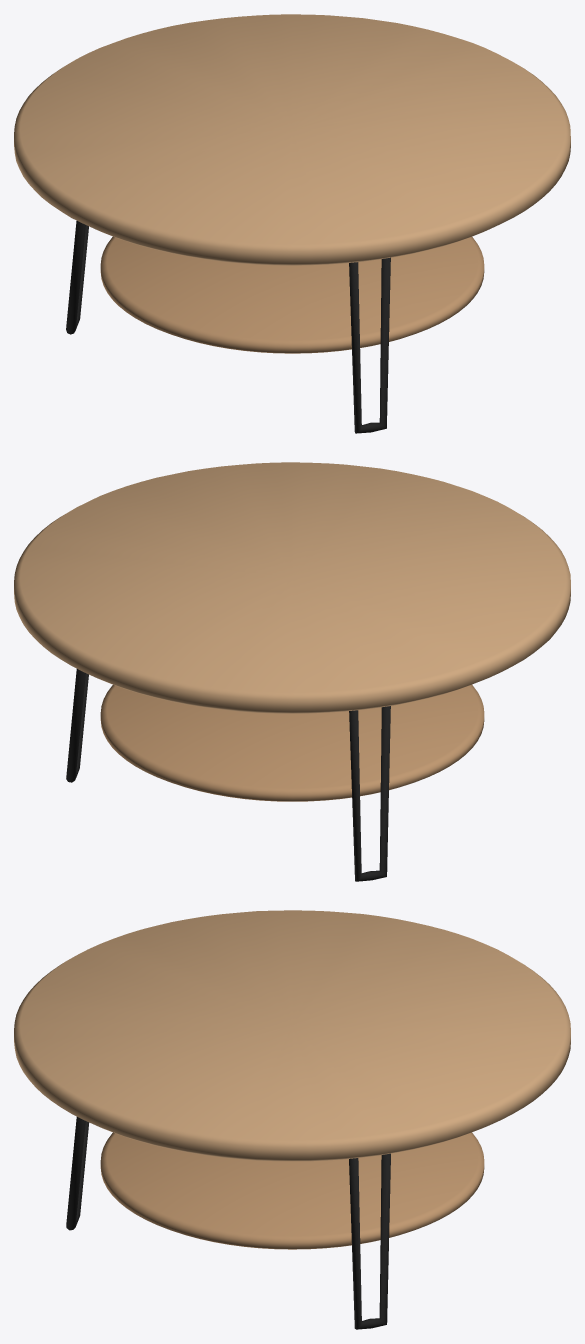
Rendered from living-coffeetable.glb.
3 views of the same model, one above another, from view 1: azimuth 30°, elevation 25°; view 2: azimuth 150°, elevation 25°; view 3: azimuth 270°, elevation 25° (orthographic).
Parts seen in each view (by area): view 1: CoffeeTable__Top, CoffeeTable__Shelf, CoffeeTable__HairpinLegs; view 2: CoffeeTable__Top, CoffeeTable__Shelf, CoffeeTable__HairpinLegs; view 3: CoffeeTable__Top, CoffeeTable__Shelf, CoffeeTable__HairpinLegs.
Part boxes in pixels (x1,y1,x2,y2): CoffeeTable__Top: (14, 14, 570, 265); CoffeeTable__Shelf: (100, 236, 484, 353); CoffeeTable__HairpinLegs: (66, 221, 390, 433); CoffeeTable__Top: (14, 462, 570, 713); CoffeeTable__Shelf: (100, 684, 484, 801); CoffeeTable__HairpinLegs: (66, 669, 390, 881); CoffeeTable__Top: (14, 910, 570, 1161); CoffeeTable__Shelf: (100, 1132, 484, 1249); CoffeeTable__HairpinLegs: (66, 1117, 390, 1329).
Bounding box in the file's own units: 90.03 × 38.33 × 90.01.
